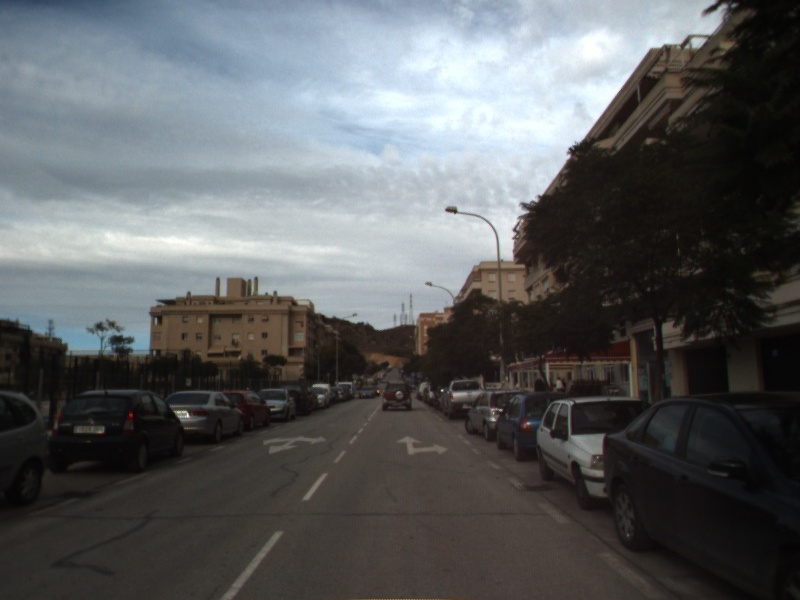STRAIGHT_RIGHT: (393, 433, 450, 457)
